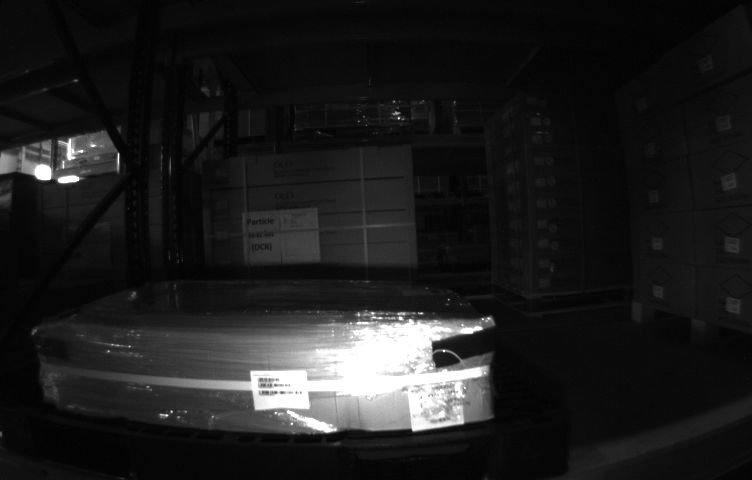True Barcode: (410, 384, 467, 429)
